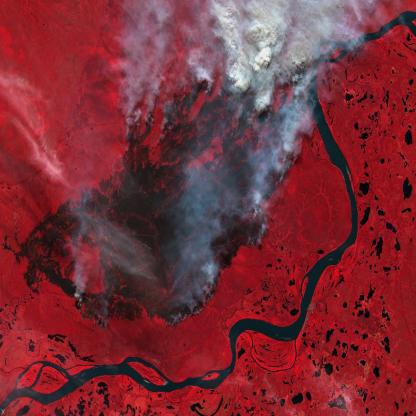fire: (70, 68, 313, 334)
